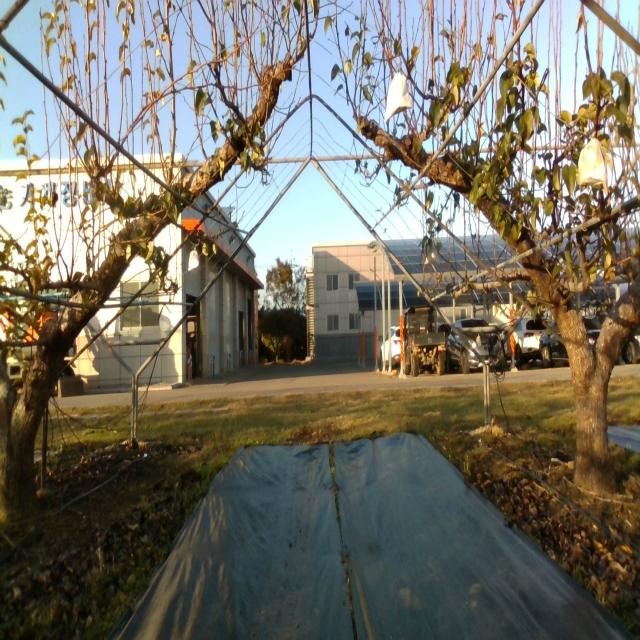pearbags: (383, 59, 413, 124), (578, 136, 608, 190), (424, 245, 440, 267), (188, 247, 199, 272)
